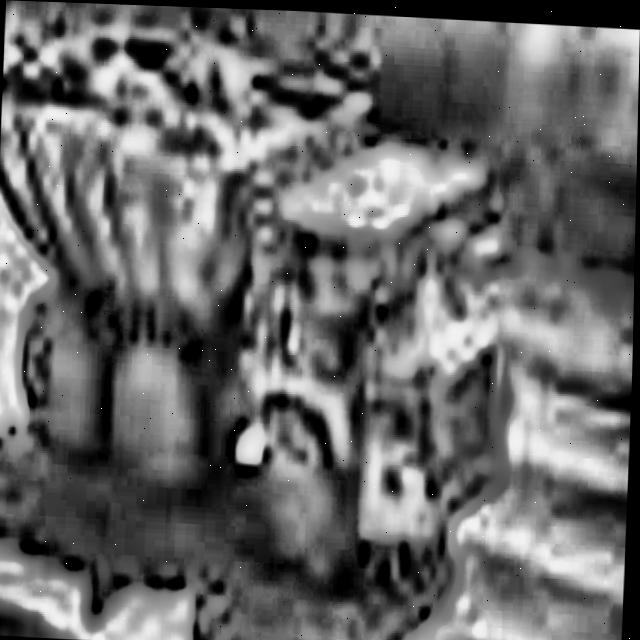dump_truck: (0, 0, 547, 607)
